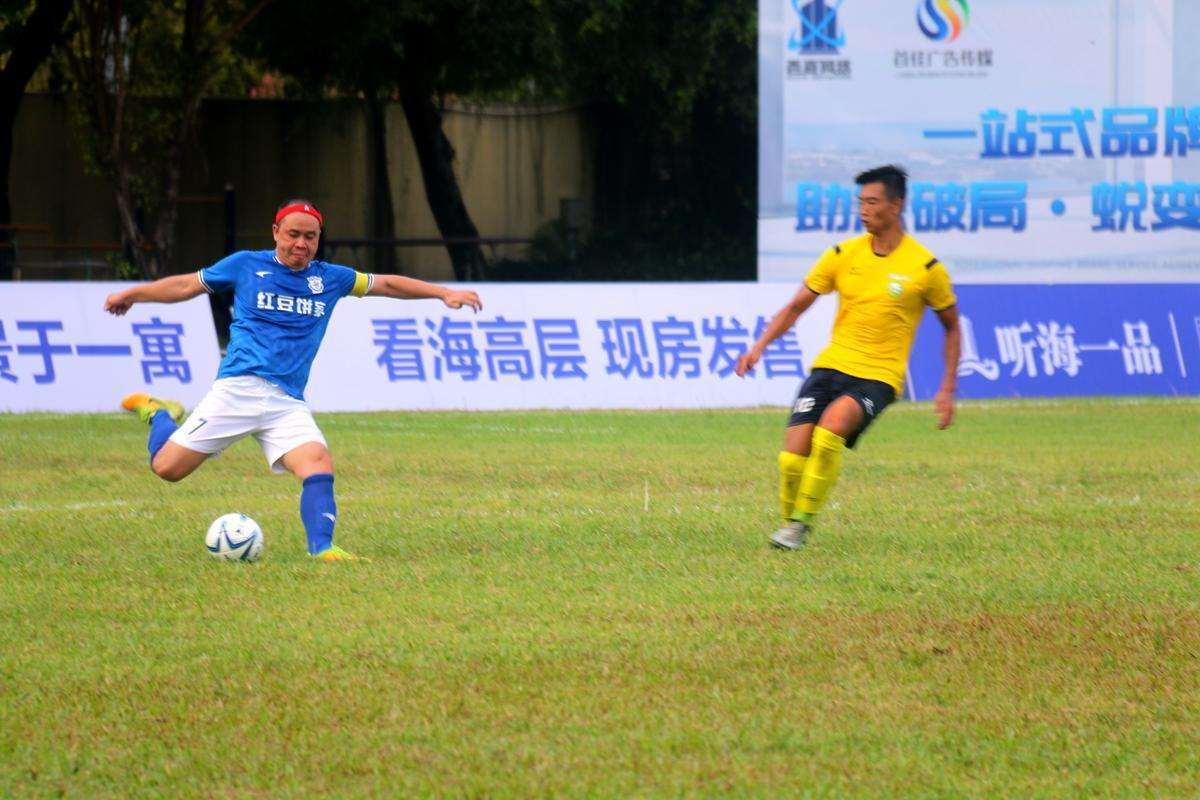football: (202, 514, 265, 566)
